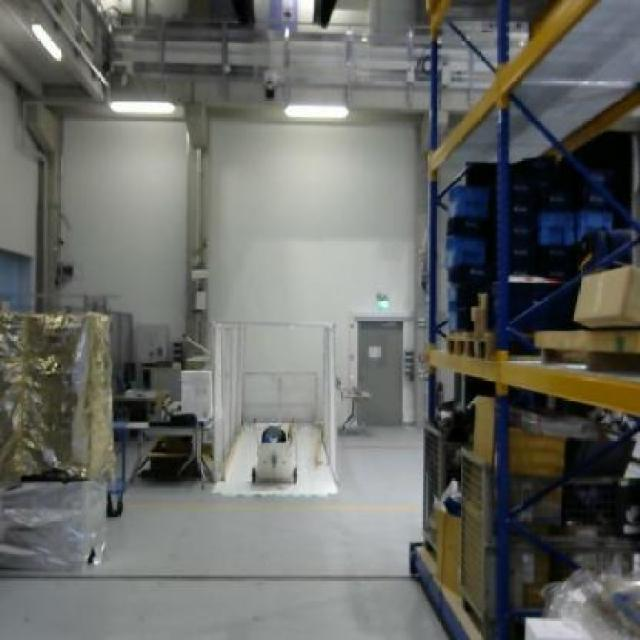box: (568, 260, 640, 326), (468, 391, 497, 462)
